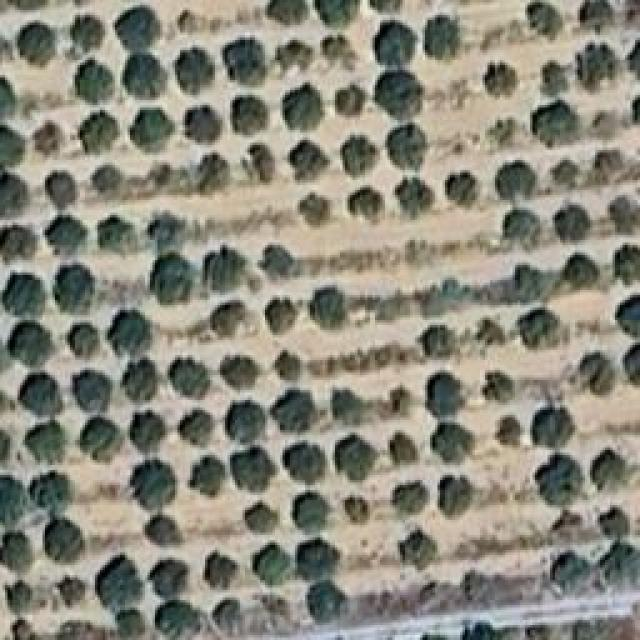Tree: (527, 100, 585, 152), (573, 35, 627, 90), (133, 458, 182, 517), (523, 300, 584, 347), (530, 405, 583, 457), (275, 83, 326, 135), (538, 453, 587, 505), (95, 555, 142, 609), (108, 308, 160, 356), (52, 260, 99, 313), (383, 425, 426, 482), (368, 22, 421, 68), (123, 53, 172, 101), (75, 107, 125, 154), (175, 403, 225, 450), (15, 23, 62, 72), (248, 540, 296, 587), (0, 528, 37, 588), (8, 322, 55, 369), (253, 240, 303, 284), (375, 73, 427, 115), (40, 515, 93, 556), (385, 122, 431, 169), (228, 38, 272, 87), (208, 590, 252, 639), (553, 545, 596, 595), (132, 105, 177, 152), (43, 213, 91, 257), (175, 43, 219, 91), (283, 140, 331, 184), (72, 57, 118, 102), (153, 258, 200, 302), (113, 5, 162, 47), (425, 373, 467, 422), (73, 10, 114, 60), (188, 100, 229, 150), (497, 203, 544, 246), (0, 275, 48, 317), (84, 418, 126, 466), (17, 373, 63, 416), (22, 418, 68, 461), (117, 361, 162, 404), (167, 353, 212, 396), (220, 355, 265, 398), (330, 432, 372, 478), (193, 150, 234, 197), (308, 285, 349, 332), (590, 448, 631, 495), (155, 600, 207, 637), (70, 375, 114, 418), (30, 473, 75, 515), (397, 178, 443, 219), (90, 163, 129, 211), (203, 252, 244, 297), (607, 237, 640, 292), (293, 190, 336, 232), (270, 35, 316, 74), (293, 492, 332, 537), (60, 323, 106, 361), (427, 423, 473, 461), (235, 445, 273, 491), (343, 188, 385, 229), (148, 213, 189, 255), (495, 163, 537, 204), (190, 453, 231, 495), (305, 585, 348, 625), (28, 118, 70, 158), (143, 158, 178, 206), (128, 408, 166, 452), (278, 390, 313, 437), (228, 95, 268, 136), (293, 538, 333, 579), (228, 398, 266, 441), (550, 205, 588, 248), (243, 135, 280, 179), (278, 440, 322, 477), (580, 0, 625, 36), (600, 537, 636, 582), (260, 0, 312, 31), (510, 258, 551, 297), (0, 170, 31, 221), (0, 223, 40, 262), (98, 210, 138, 249), (265, 298, 305, 337), (345, 135, 381, 178), (258, 593, 296, 633), (0, 123, 31, 171), (475, 368, 515, 405), (380, 385, 417, 424), (40, 170, 80, 206), (535, 58, 571, 98), (423, 18, 458, 59), (607, 189, 640, 232), (390, 480, 425, 520), (485, 60, 522, 97), (445, 168, 481, 206), (400, 533, 438, 569), (595, 150, 634, 185), (148, 555, 188, 589), (330, 388, 362, 429), (567, 253, 601, 291), (583, 355, 617, 393), (528, 3, 564, 38), (203, 553, 238, 589), (550, 155, 584, 192), (210, 303, 243, 341), (238, 500, 276, 533), (440, 475, 473, 513), (50, 570, 86, 604), (493, 415, 527, 451), (145, 512, 180, 546), (322, 35, 355, 69), (475, 310, 508, 344), (3, 585, 37, 618), (615, 292, 639, 337), (318, 0, 359, 26), (0, 477, 23, 523), (490, 115, 520, 150), (340, 485, 371, 518), (335, 85, 365, 119), (600, 505, 634, 535), (426, 323, 454, 358), (275, 348, 304, 378), (12, 613, 44, 640), (460, 617, 499, 639), (115, 610, 143, 640), (617, 343, 639, 381), (0, 75, 17, 118), (627, 42, 640, 69)
